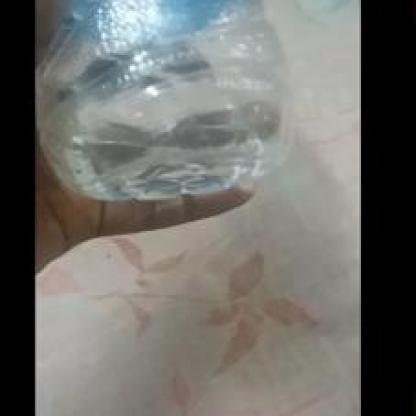bottle: (38, 0, 291, 227)
